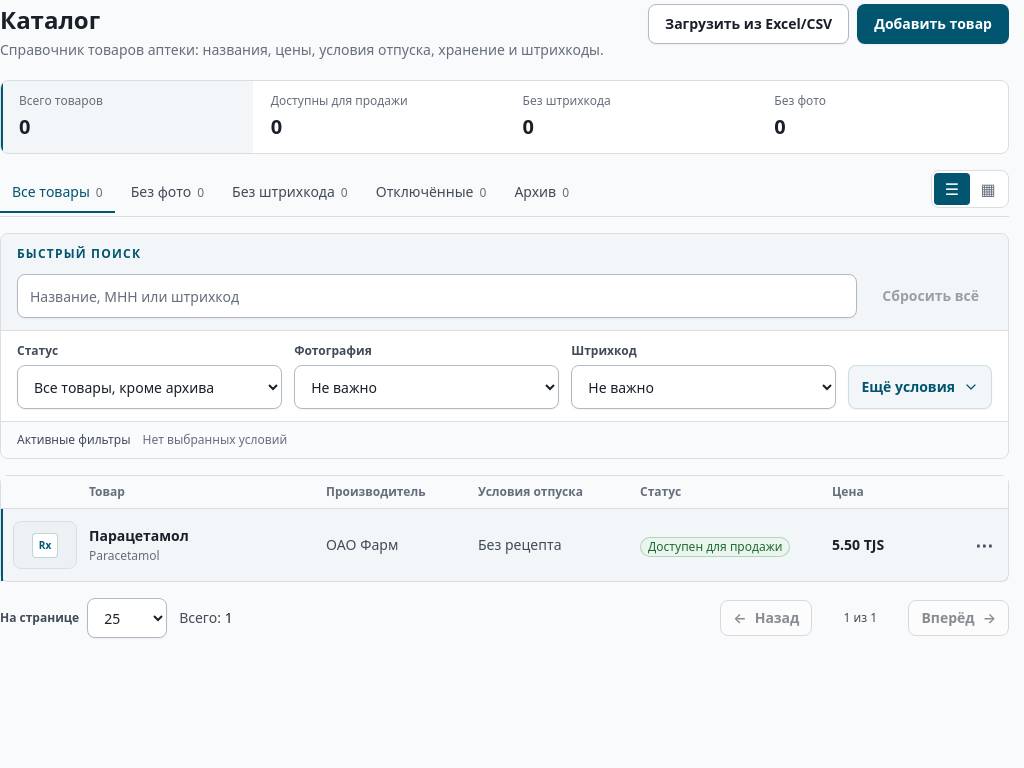
CatalogPage › opens the product card with one click on an ordinary screen
Click the button with aria-label "Открыть карточку Парацетамол": (482, 545) [1,509,964,581]
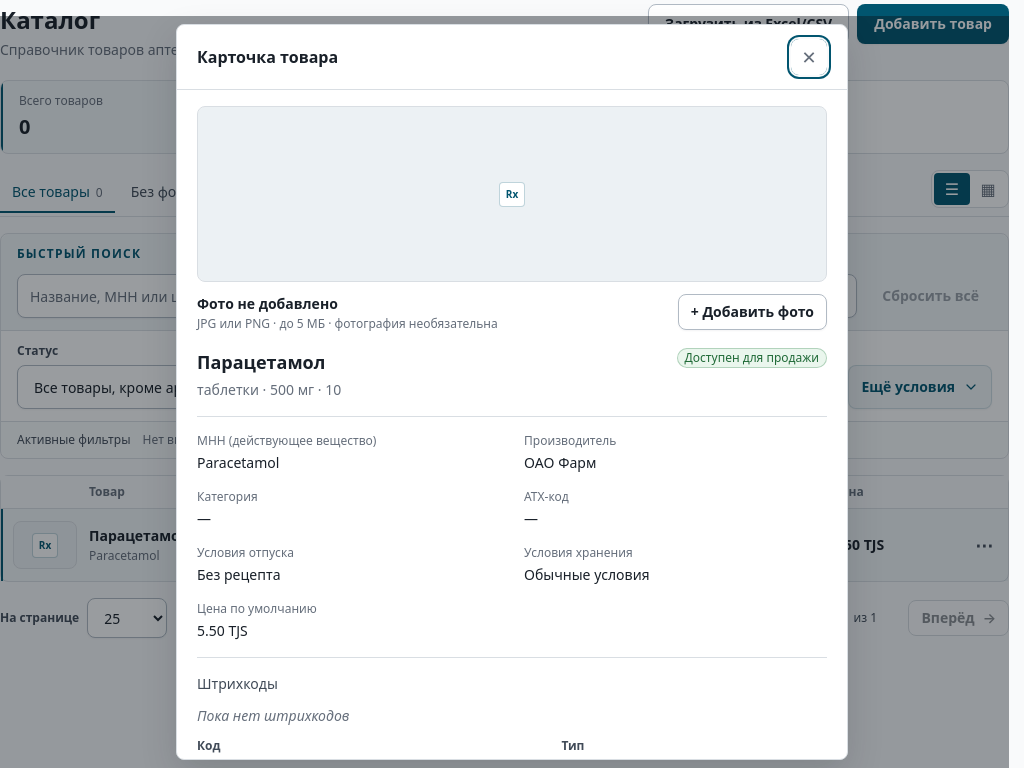
Expected: the dialog "Карточка товара" is shown
